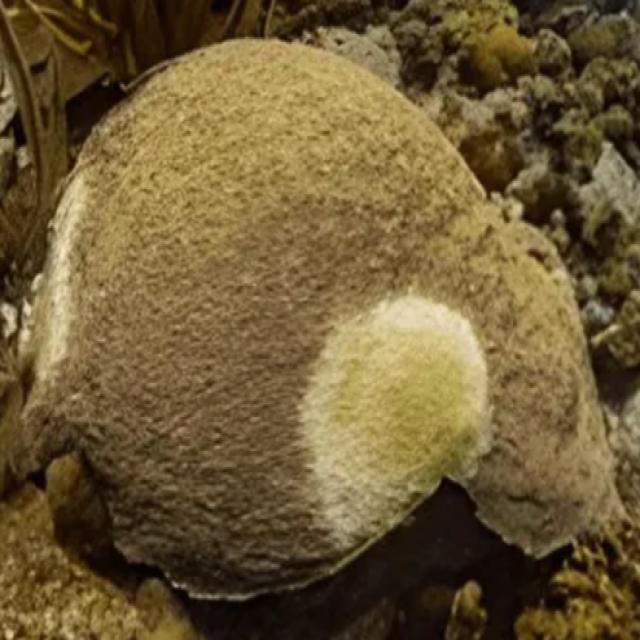Coral: (17, 36, 631, 603)
